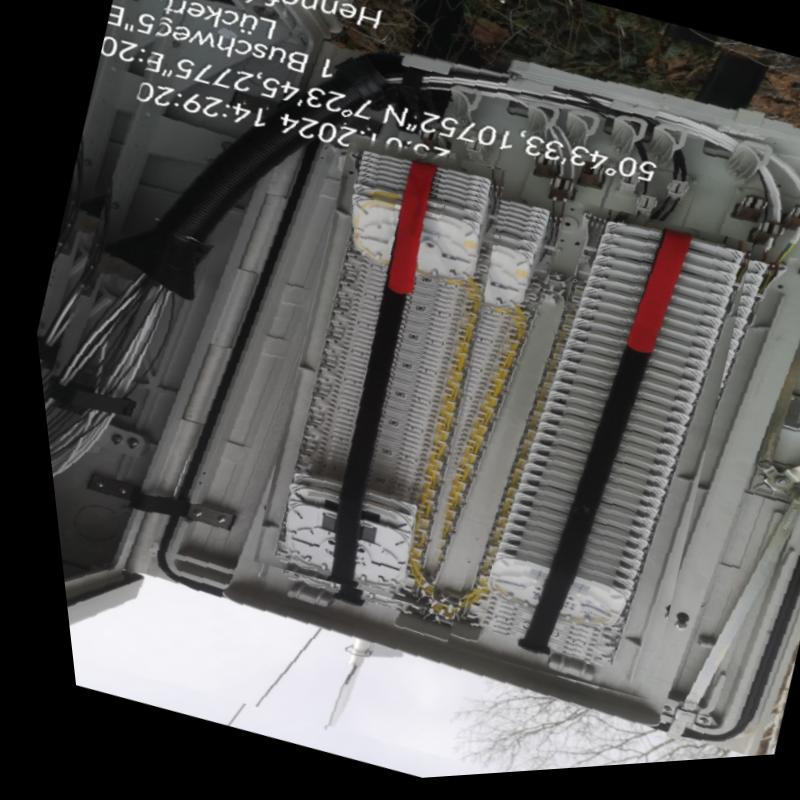NT-Gehause: (34, 0, 800, 766)
Spleiskassetten: (436, 212, 747, 699), (241, 139, 505, 608)
